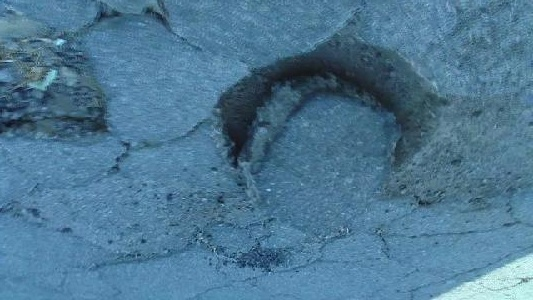pothole: (211, 29, 449, 189), (0, 23, 116, 142)
